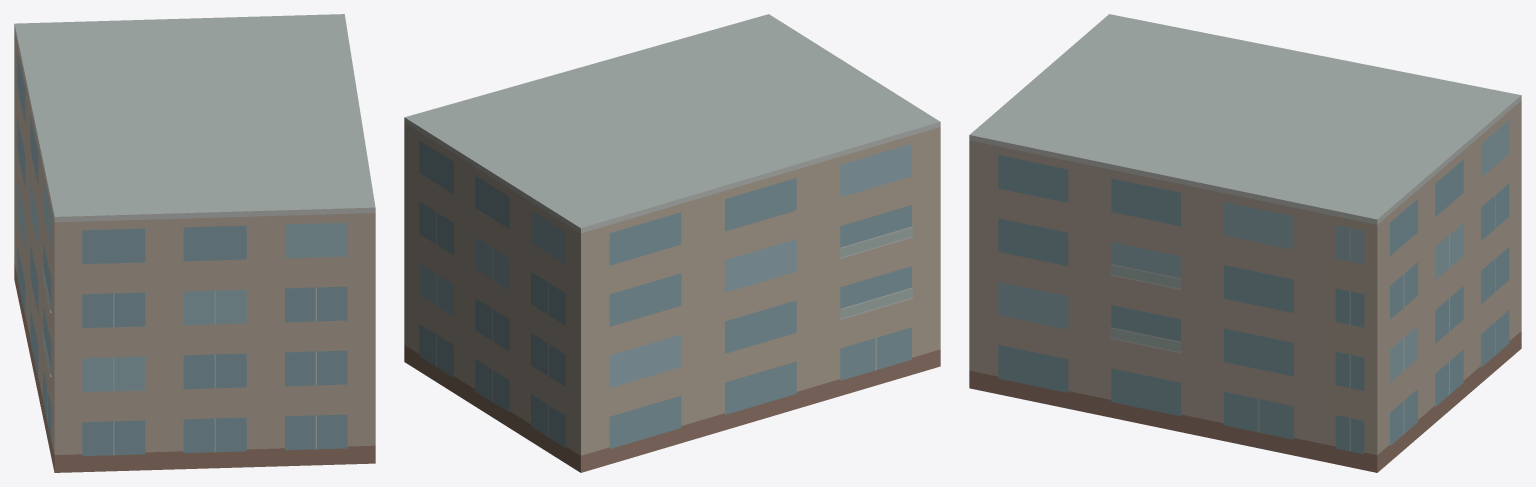
The model's file is survey-upis-32887410.glb.
The picture shows the model from 3 angles, left to right: view 1: azimuth 30°, elevation 25°; view 2: azimuth 150°, elevation 25°; view 3: azimuth 270°, elevation 25°; orthographic projection. The views are drawn at different scales.
Parts seen in each view (by area): view 1: survey-upis-32887410.tmp; view 2: survey-upis-32887410.tmp; view 3: survey-upis-32887410.tmp.
Boxes of the visible parts, x1,y1,x2,y2 form: survey-upis-32887410.tmp: (14, 14, 375, 472); survey-upis-32887410.tmp: (404, 14, 940, 472); survey-upis-32887410.tmp: (969, 14, 1521, 472).
Size of the model in its own units: 20.02 by 11.5 by 22.72.
